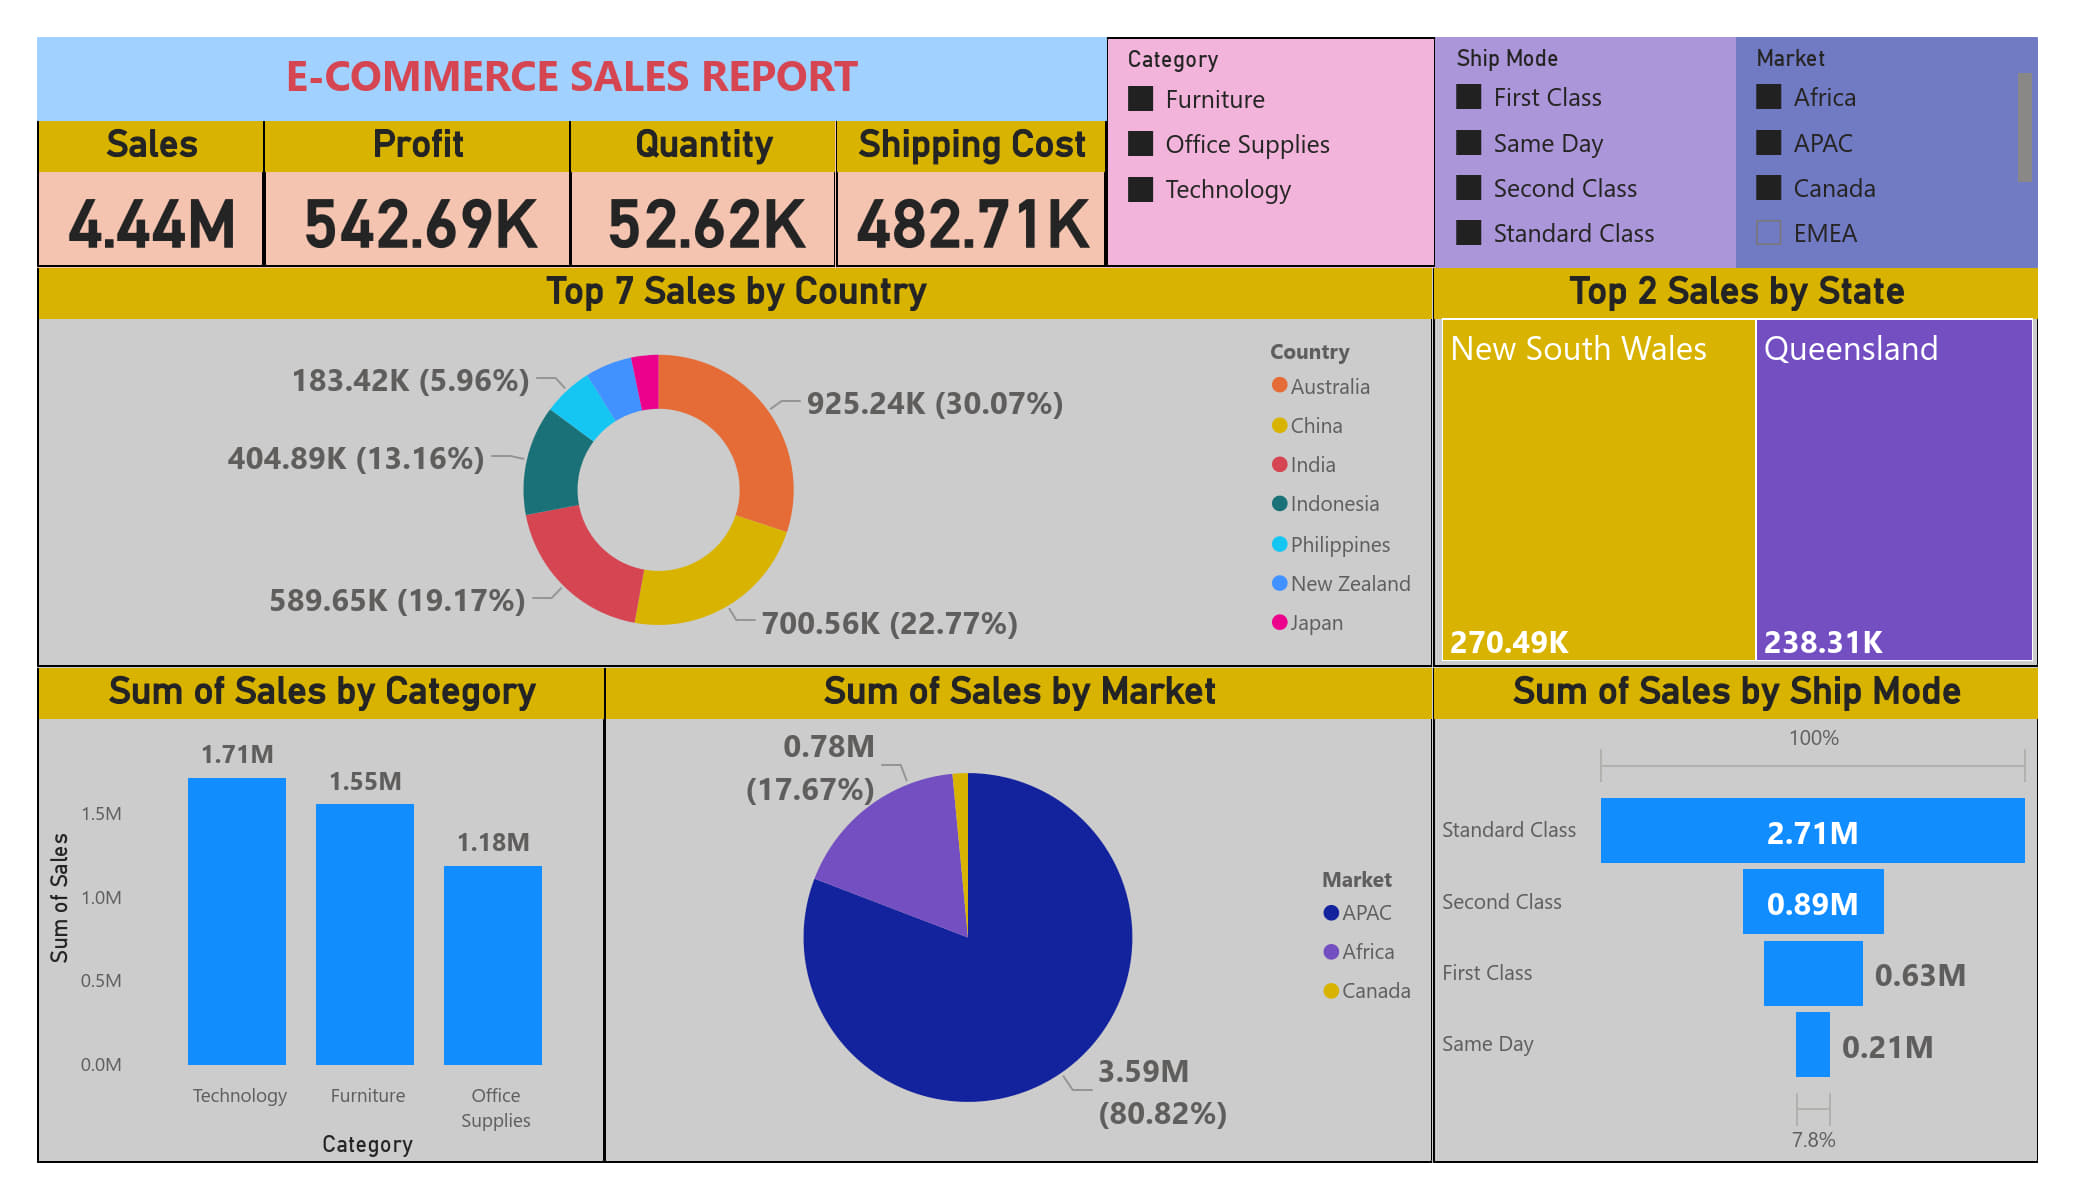

The page's visual inventory and layout, read from the dashboard file:
{"tool":"powerbi","page":{"name":"Sales Report","canvas":[1280,720],"ordinal":0},"visuals":[{"type":"columnChart","fields":{"Category":["Orders.Category"],"Y":["Sum(Orders.Sales)"]},"box":[0,403.1,363.3,316.7],"z":0},{"type":"pieChart","fields":{"Category":["Orders.Market"],"Y":["Sum(Orders.Sales)"]},"box":[363.3,403.1,529.2,316.7],"z":1000},{"type":"funnel","fields":{"Category":["Orders.Ship Mode"],"Y":["Sum(Orders.Sales)"]},"box":[892.6,403.1,388,316.7],"z":2000},{"type":"donutChart","title":"Top 7 Sales by Country","fields":{"Category":["Orders.Country"],"Y":["Sum(Orders.Sales)"]},"box":[0,146.7,892.6,256.4],"z":3000},{"type":"treemap","title":"Top 2 Sales by State","fields":{"Group":["Orders.State"],"Values":["Sum(Orders.Sales)"]},"box":[892.6,146.7,388,256.4],"z":4000},{"type":"card","title":"Sales","fields":{"Values":["Sum(Orders.Sales)"]},"box":[0,53.5,145.3,93.2],"z":5000},{"type":"card","title":"Profit","fields":{"Values":["Sum(Orders.Profit)"]},"box":[145.3,53.5,196.1,93.2],"z":6000},{"type":"card","title":"Quantity","fields":{"Values":["Sum(Orders.Quantity)"]},"box":[341.4,53.5,170,93.2],"z":7000},{"type":"card","title":"Shipping Cost","fields":{"Values":["Sum(Orders.Shipping Cost)"]},"box":[511.4,53.5,172.8,93.2],"z":8000},{"type":"slicer","fields":{"Values":["Orders.Category"]},"box":[684.2,0,211.1,146.7],"z":9000},{"type":"slicer","fields":{"Values":["Orders.Market"]},"box":[1087.2,0,193.3,146.7],"z":10000},{"type":"slicer","fields":{"Values":["Orders.Ship Mode"]},"box":[895.3,0,191.9,146.7],"z":11000},{"type":"textbox","box":[0,0,684.2,53.5],"z":12000}]}

Visuals, with their boxes in screenshot pixels (x1, y1, x2, y2):
columnChart - Orders.Category x Sum(Orders.Sales): select_region(54, 665, 614, 1153)
pieChart - Orders.Market x Sum(Orders.Sales): select_region(614, 665, 1430, 1153)
funnel - Orders.Ship Mode x Sum(Orders.Sales): select_region(1430, 665, 2029, 1153)
"Top 7 Sales by Country" donutChart: select_region(54, 269, 1430, 665)
"Top 2 Sales by State" treemap: select_region(1430, 269, 2029, 665)
"Sales" card: select_region(54, 126, 278, 269)
"Profit" card: select_region(278, 126, 580, 269)
"Quantity" card: select_region(580, 126, 843, 269)
"Shipping Cost" card: select_region(843, 126, 1109, 269)
slicer - Orders.Category: select_region(1109, 43, 1435, 269)
slicer - Orders.Market: select_region(1731, 43, 2029, 269)
slicer - Orders.Ship Mode: select_region(1435, 43, 1731, 269)
textbox: select_region(54, 43, 1109, 126)
